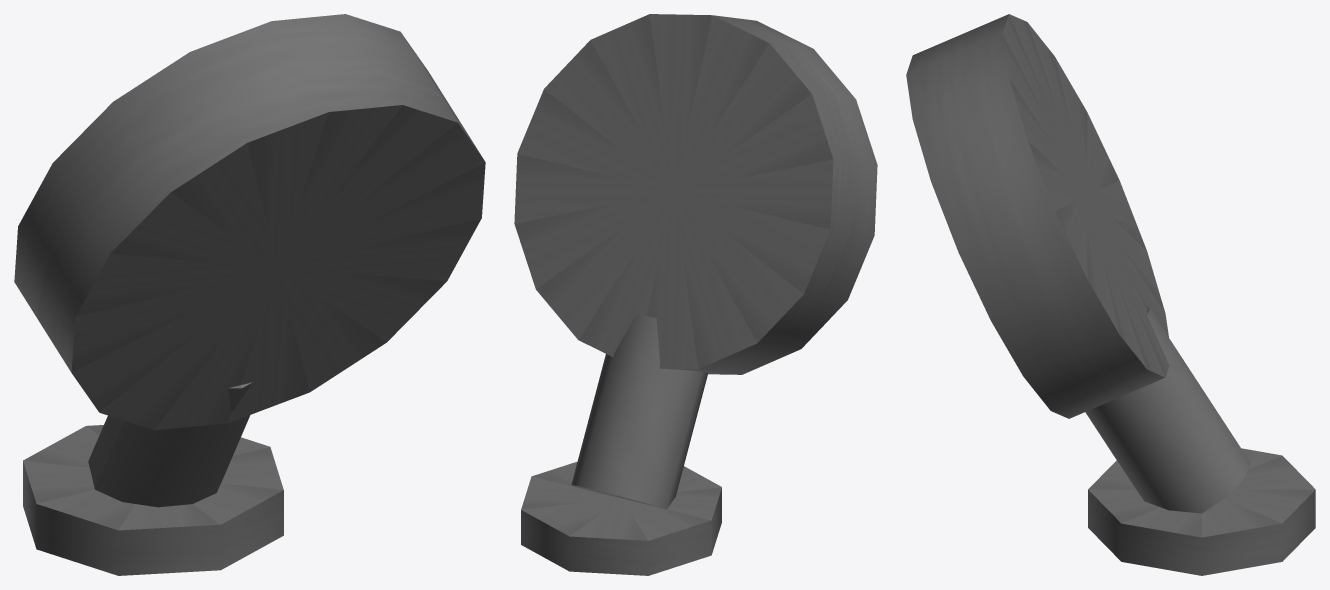
File: mastarmcurve_4x1_c0_down.obj
The picture shows the model from 3 angles, left to right: view 1: azimuth 30°, elevation 25°; view 2: azimuth 150°, elevation 25°; view 3: azimuth 270°, elevation 25°; orthographic projection. The views are drawn at different scales.
Visible parts, largest first — view 1: mastarm_4x1_c0_down; view 2: mastarm_4x1_c0_down; view 3: mastarm_4x1_c0_down.
Boxes of the visible parts, x1,y1,x2,y2 form: mastarm_4x1_c0_down: (14,14,485,575); mastarm_4x1_c0_down: (514,14,877,575); mastarm_4x1_c0_down: (906,14,1315,575).
Bounding box in the file's own units: 0.6953 × 0.9578 × 0.7194.
